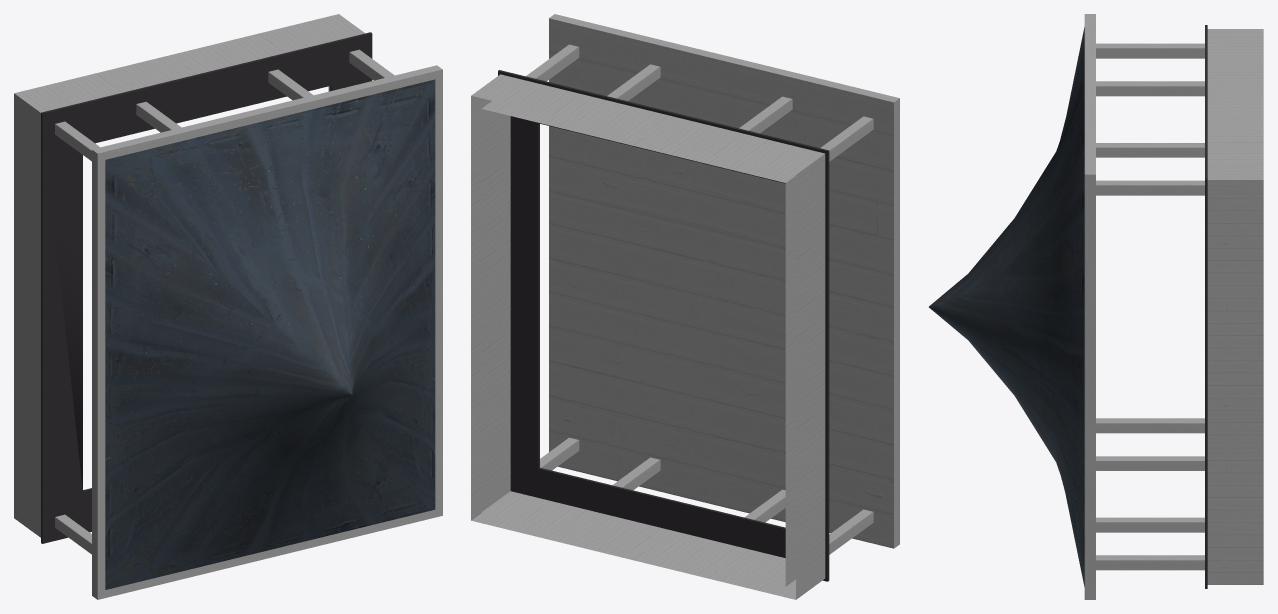
File: nt_2020_vista_kiosk_02_LOD0.obj
The picture shows the model from 3 angles, left to right: view 1: azimuth 30°, elevation 25°; view 2: azimuth 150°, elevation 25°; view 3: azimuth 270°, elevation 25°; orthographic projection. The views are drawn at different scales.
Parts seen in each view (by area): view 1: ch_tin_roof_blue_clean, zm_nuked_vinylsidings_white, color_black_shine; view 2: zm_nuked_vinylsidings_white, color_black_shine; view 3: zm_nuked_vinylsidings_white, ch_tin_roof_blue_clean, color_black_shine.
Boxes of the visible parts, <box> form: ch_tin_roof_blue_clean: <box>105,79,435,589</box>; zm_nuked_vinylsidings_white: <box>14,14,442,599</box>; color_black_shine: <box>41,32,372,543</box>; zm_nuked_vinylsidings_white: <box>471,14,899,599</box>; color_black_shine: <box>498,70,829,581</box>; zm_nuked_vinylsidings_white: <box>1084,14,1263,599</box>; ch_tin_roof_blue_clean: <box>929,27,1084,586</box>; color_black_shine: <box>1205,25,1207,588</box>.
Size of the model in its own units: 691 by 853 by 610.
